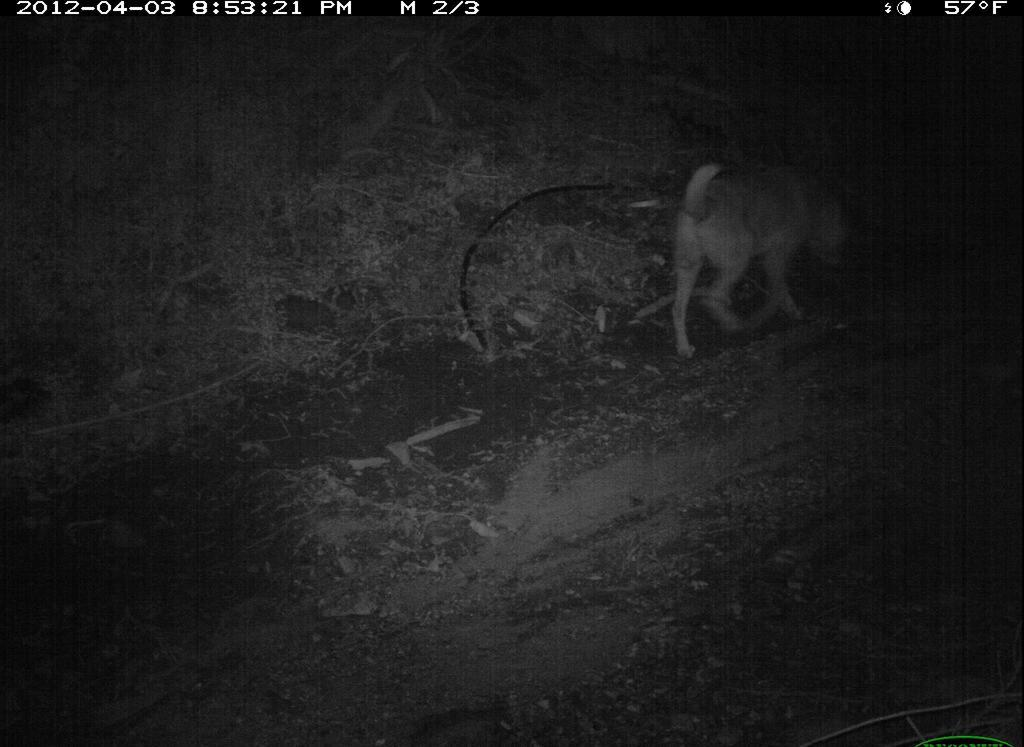dog: (660, 144, 870, 364)
